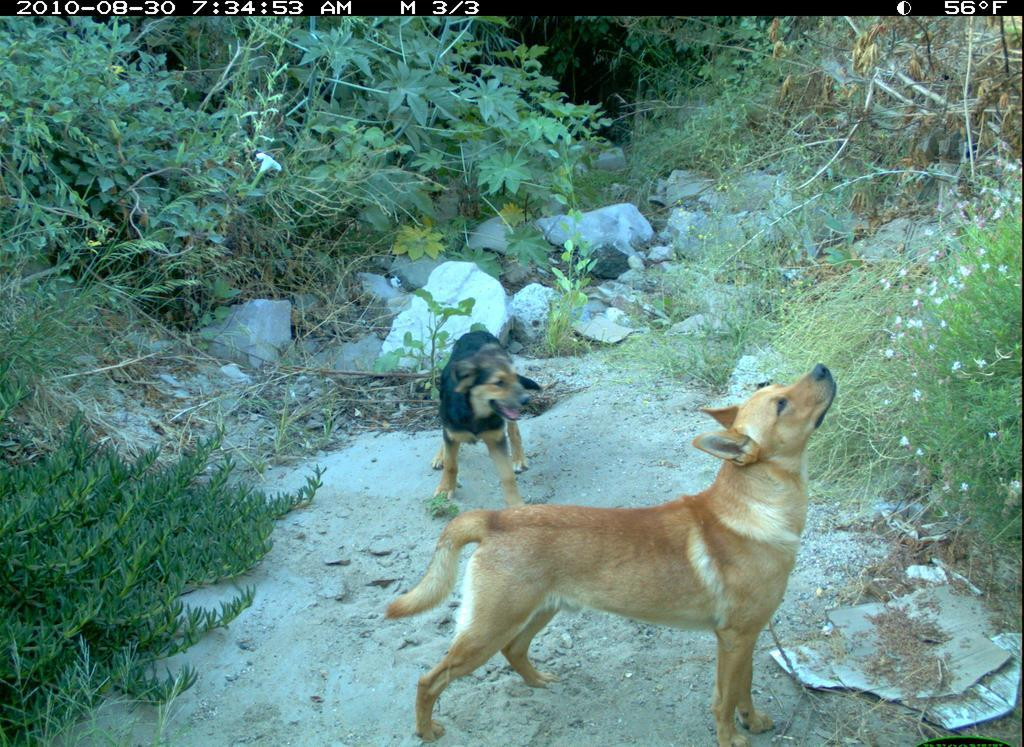dog: (381, 363, 844, 747), (436, 327, 552, 510)
